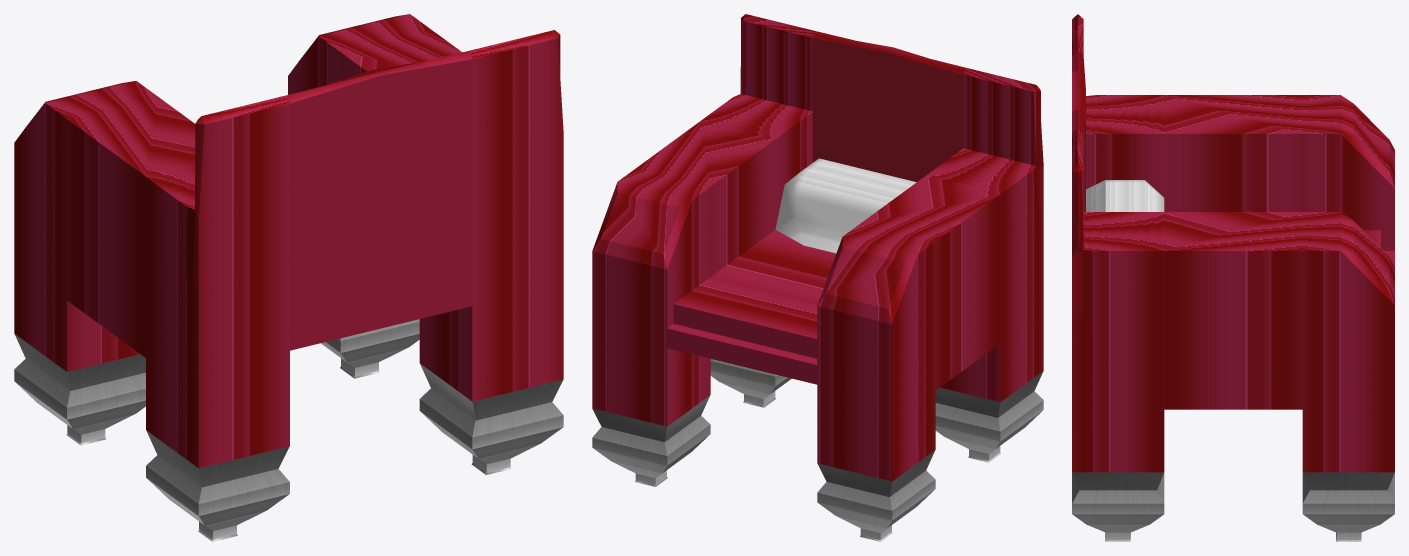
File: poltrona.fbx
The picture shows the model from 3 angles, left to right: view 1: azimuth 30°, elevation 25°; view 2: azimuth 150°, elevation 25°; view 3: azimuth 270°, elevation 25°; orthographic projection. The views are drawn at different scales.
Parts seen in each view (by area): view 1: Cube, Cube.002; view 2: Cube, Cube.002, Cube.001; view 3: Cube, Cube.002, Cube.001.
Part boxes in pixels (left/top/right/bottom): Cube: left=14, top=14, right=563, bottom=468; Cube.002: left=14, top=319, right=563, bottom=541; Cube: left=592, top=14, right=1043, bottom=481; Cube.002: left=592, top=359, right=1043, bottom=541; Cube.001: left=775, top=158, right=916, bottom=253; Cube: left=1072, top=14, right=1394, bottom=472; Cube.002: left=1072, top=472, right=1394, bottom=541; Cube.001: left=1086, top=180, right=1164, bottom=211.
Bounding box in the file's own units: 800 × 930 × 700.
Materials: 3 (3 with a texture image).
